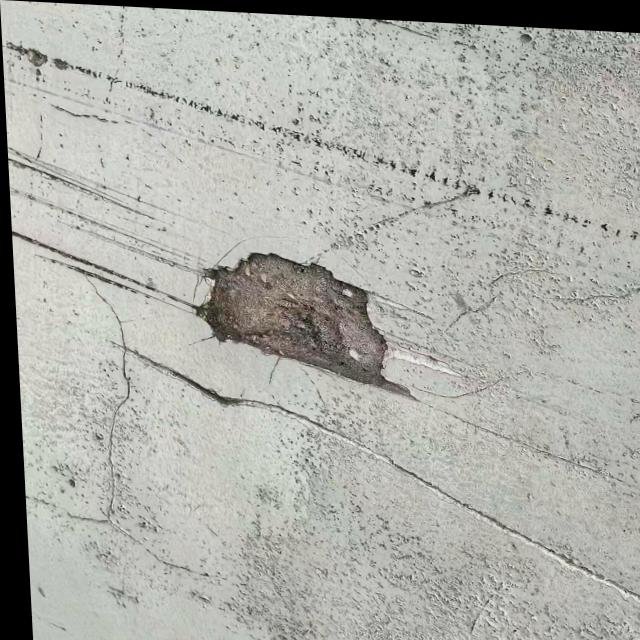crack: (33, 255, 640, 610)
spalling: (187, 247, 434, 405)
